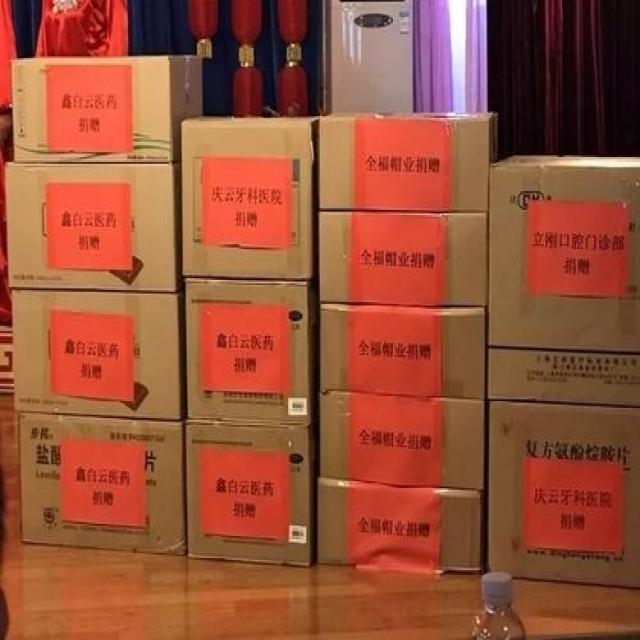box: (488, 154, 640, 353), (488, 398, 640, 587), (12, 282, 187, 420), (5, 162, 186, 294), (184, 394, 320, 567), (19, 415, 187, 555), (180, 114, 319, 278), (10, 56, 202, 162), (186, 276, 320, 423), (319, 111, 498, 212), (319, 302, 488, 399), (316, 476, 485, 573), (319, 393, 486, 490), (319, 212, 488, 305), (486, 346, 640, 406)
